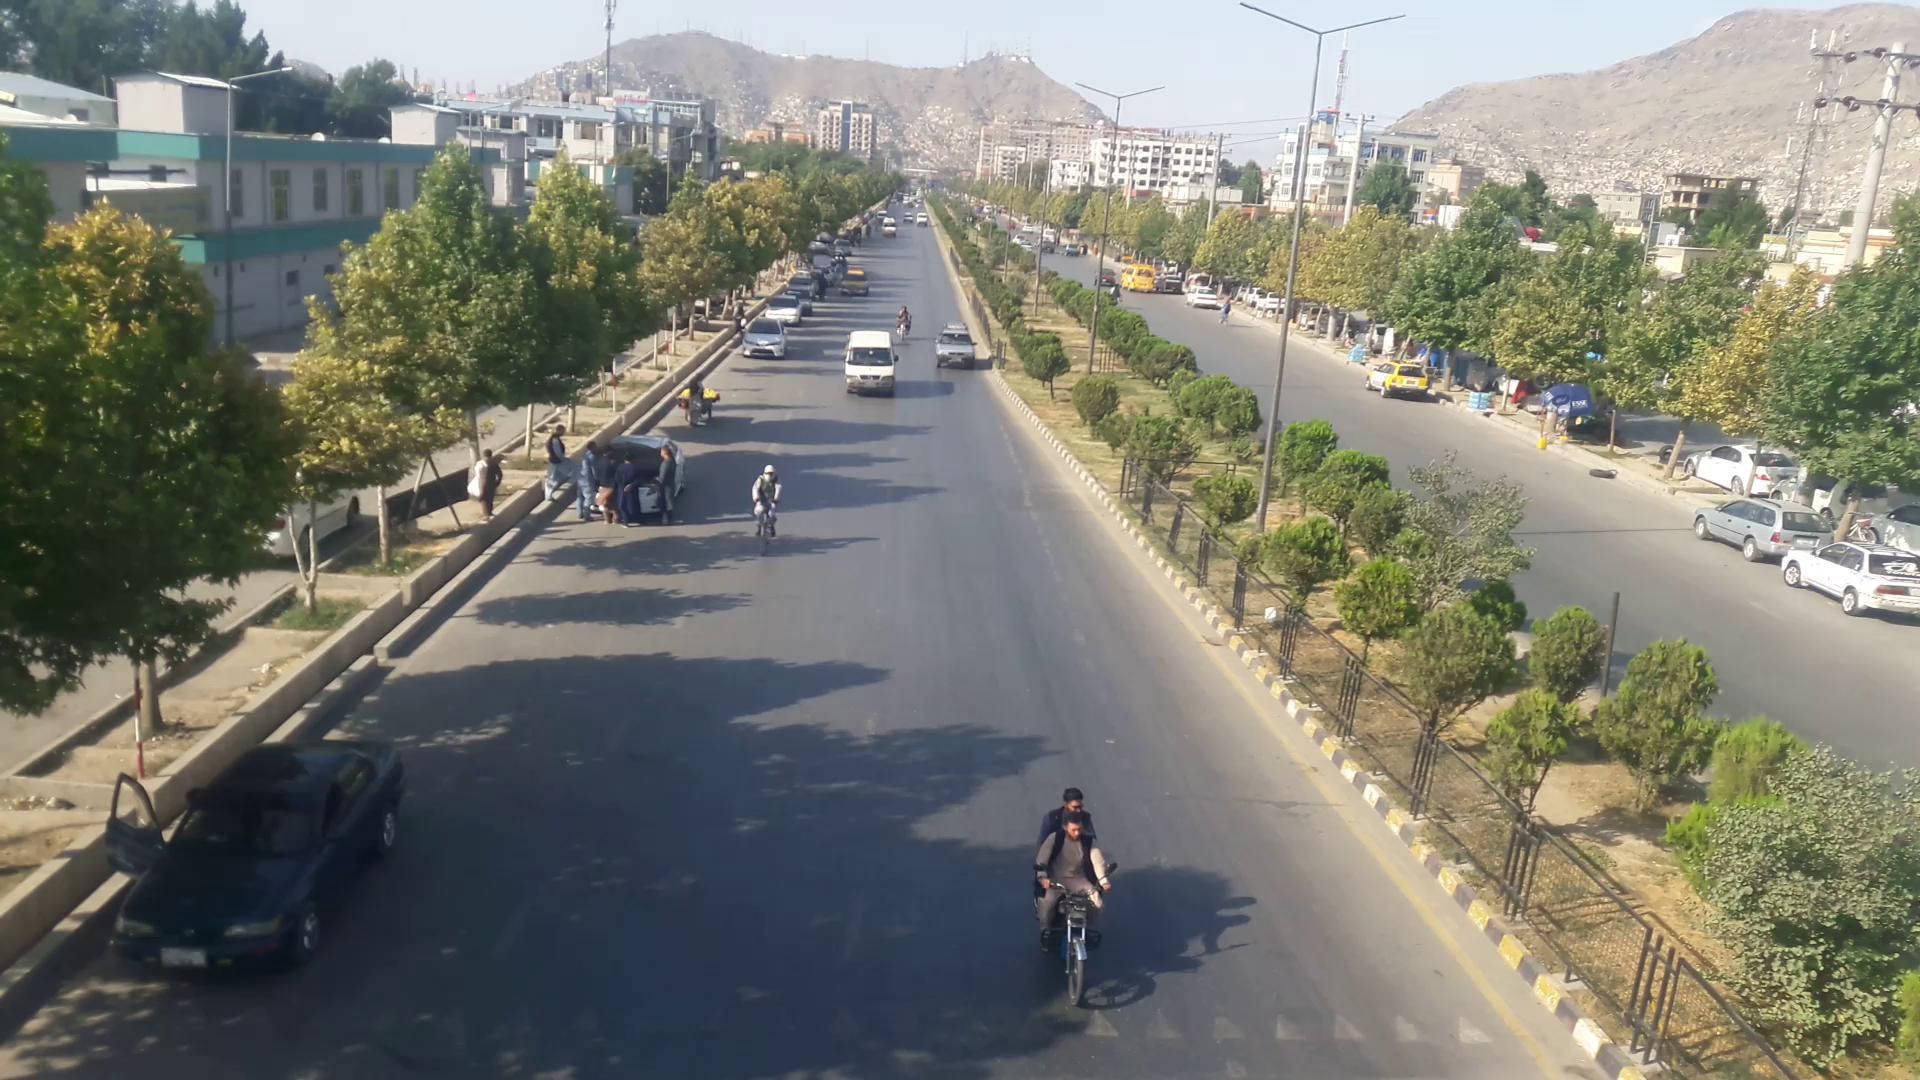bike: (997, 777, 1113, 1010), (895, 307, 914, 340)
bus: (848, 330, 902, 393)
car: (113, 737, 423, 977), (1696, 501, 1791, 562), (1365, 361, 1429, 400), (936, 322, 977, 369), (742, 328, 790, 357), (767, 295, 800, 320)
truck: (1782, 520, 1920, 629)
